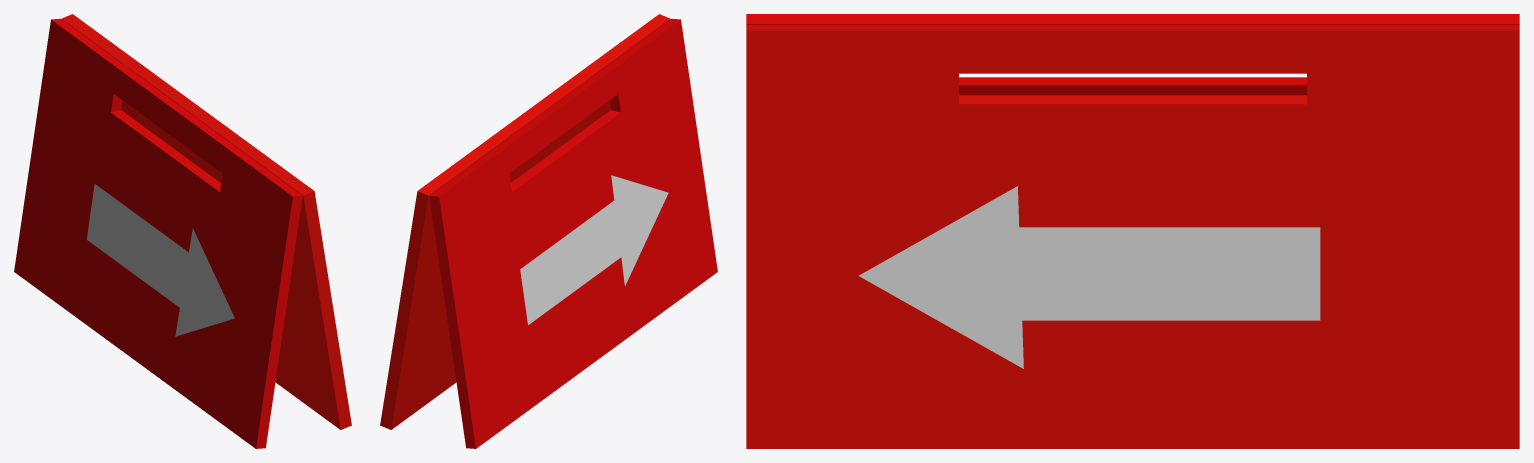
The model's file is 矢印板.fbx.
3 renders of one model, left to right at view 1: azimuth 30°, elevation 25°; view 2: azimuth 150°, elevation 25°; view 3: azimuth 270°, elevation 25°, orthographic. The views are drawn at different scales.
Parts seen in each view (by area): view 1: 立方体.002, 立方体, 平面, グリッド; view 2: 立方体.002, 立方体, 平面, グリッド; view 3: 立方体, 平面.001, 立方体.002, グリッド.001.
Part boxes in pixels (<box>): 立方体.002: <box>14,18,302,448</box>; 立方体: <box>61,14,351,429</box>; 平面: <box>86,184,188,307</box>; グリッド: <box>175,228,234,336</box>; 立方体.002: <box>429,18,717,448</box>; 立方体: <box>380,14,670,429</box>; 平面: <box>520,201,622,324</box>; グリッド: <box>611,175,668,285</box>; 立方体: <box>746,25,1519,448</box>; 平面.001: <box>1019,227,1320,320</box>; 立方体.002: <box>746,14,1519,95</box>; グリッド.001: <box>858,186,1023,368</box>.
Bounding box in the file's own units: 533 × 1302 × 2325.
